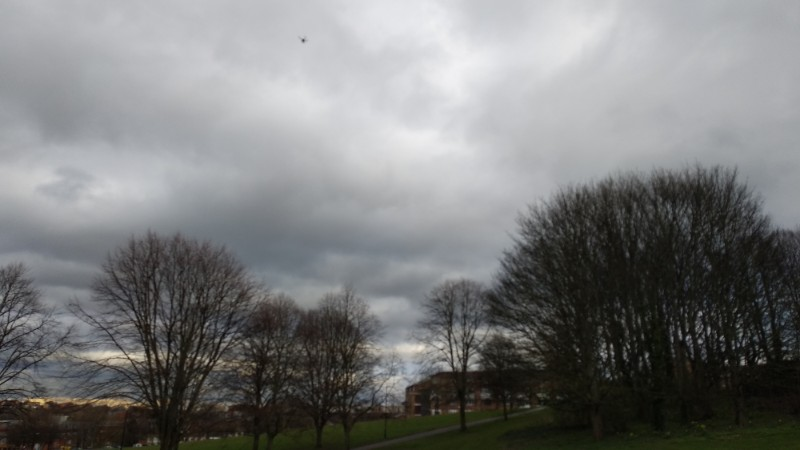drone: (299, 35, 310, 46)
